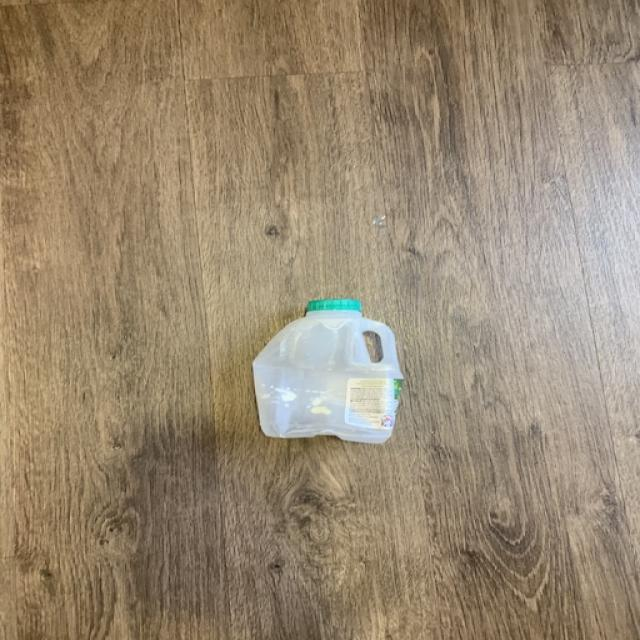litter: (243, 296, 427, 448)
